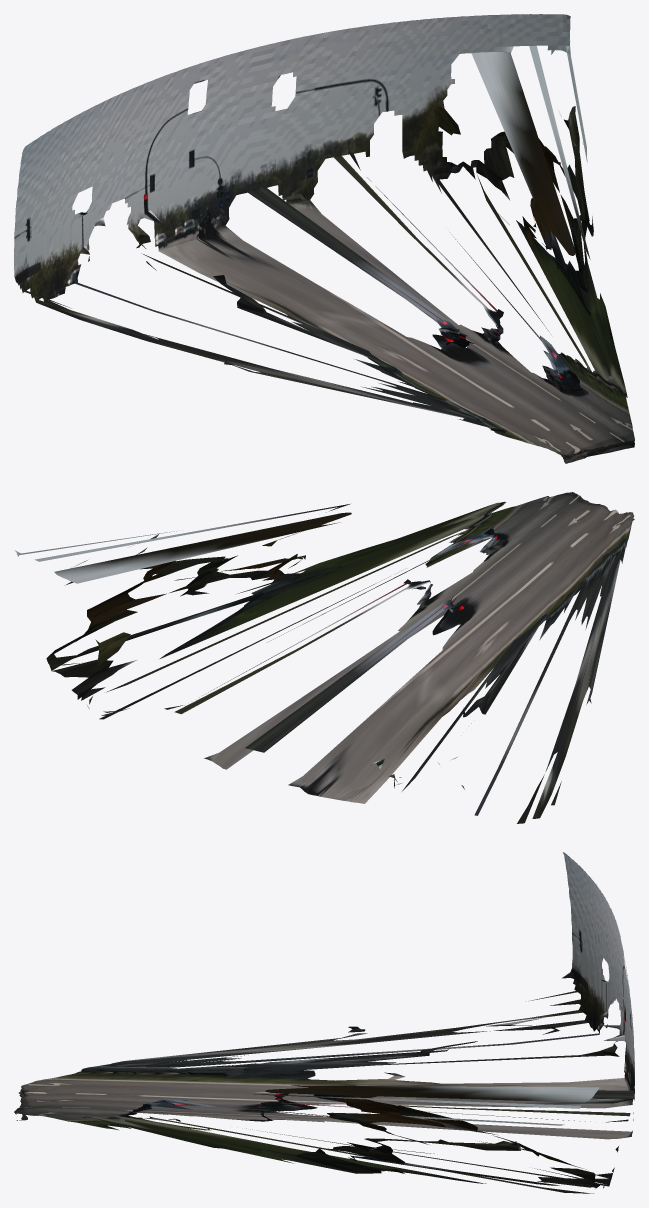
The picture shows the model from 3 angles, top to bottom: view 1: azimuth 30°, elevation 25°; view 2: azimuth 150°, elevation 25°; view 3: azimuth 270°, elevation 25°; orthographic projection. The views are drawn at different scales.
Parts seen in each view (by area): view 1: defaultobject; view 2: defaultobject; view 3: defaultobject.
Boxes of the visible parts, x1,y1,x2,y2 form: defaultobject: [14, 14, 634, 463]; defaultobject: [14, 492, 634, 823]; defaultobject: [14, 852, 634, 1193].
Bounding box in the file's own units: 41 × 13.07 × 44.46.
1 material, 1 textured.
